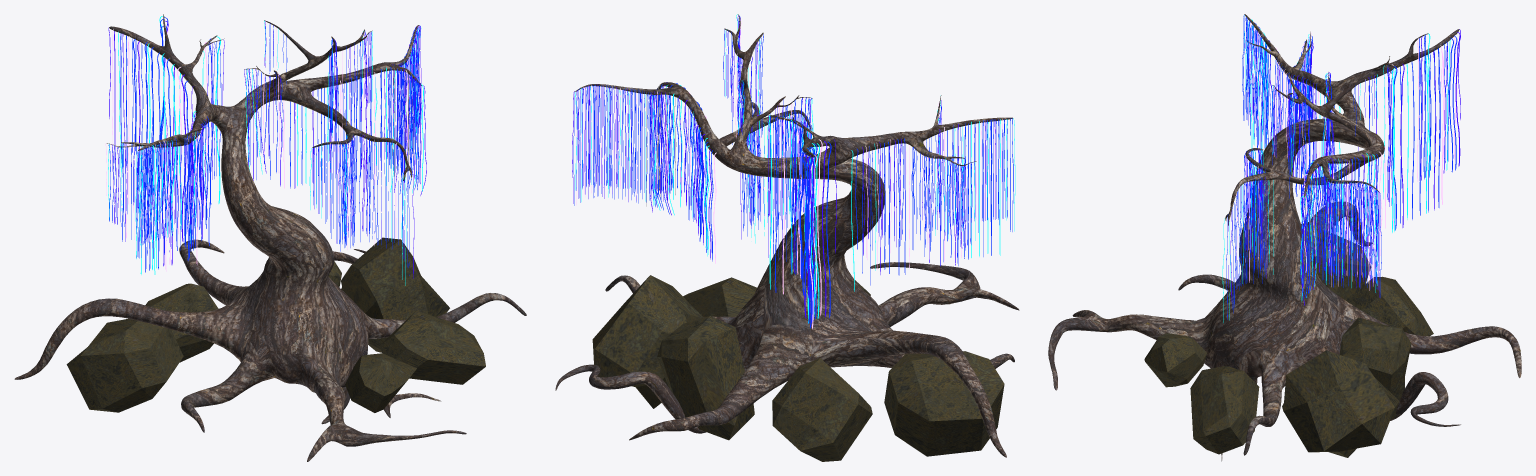
File: eywa-optimized.glb
3 views of the same model, side by side, from view 1: azimuth 30°, elevation 25°; view 2: azimuth 150°, elevation 25°; view 3: azimuth 270°, elevation 25° (orthographic). The views are drawn at different scales.
Visible parts, largest first — view 1: pCube161, Rock8, Rock1, Rock3, Rock2, Rock7; view 2: pCube161, Rock8, Rock6, Rock7, Rock1, Rock3; view 3: pCube161, Rock1, Rock3, Rock6, Rock7, Rock2, Rock8.
Boxes of the visible parts, x1,y1,x2,y2 form: pCube161: (14, 14, 526, 461); Rock8: (66, 318, 183, 412); Rock1: (341, 237, 449, 352); Rock3: (379, 311, 485, 384); Rock2: (345, 353, 416, 412); Rock7: (145, 283, 218, 362); pCube161: (555, 14, 1019, 457); Rock8: (884, 351, 1004, 456); Rock6: (657, 316, 754, 440); Rock7: (772, 358, 872, 461); Rock1: (592, 275, 703, 408); Rock3: (683, 277, 756, 317); pCube161: (1048, 14, 1521, 461); Rock1: (1282, 350, 1399, 457); Rock3: (1190, 365, 1259, 454); Rock6: (1339, 317, 1411, 419); Rock7: (1347, 276, 1433, 335); Rock2: (1144, 333, 1207, 387); Rock8: (1301, 222, 1371, 300).
Size of what is drawn, in the model's own units: 85.87 by 67.66 by 80.12.
7 materials, 2 textured.
